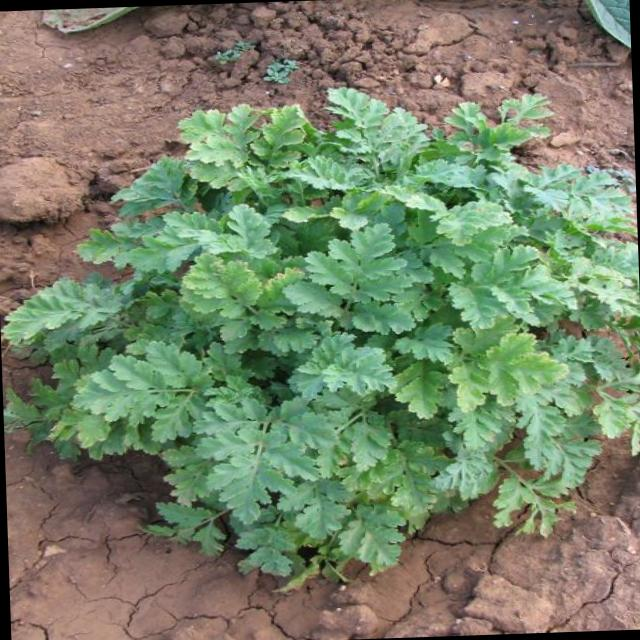Poisonous-Parthenium: (23, 73, 640, 605)
